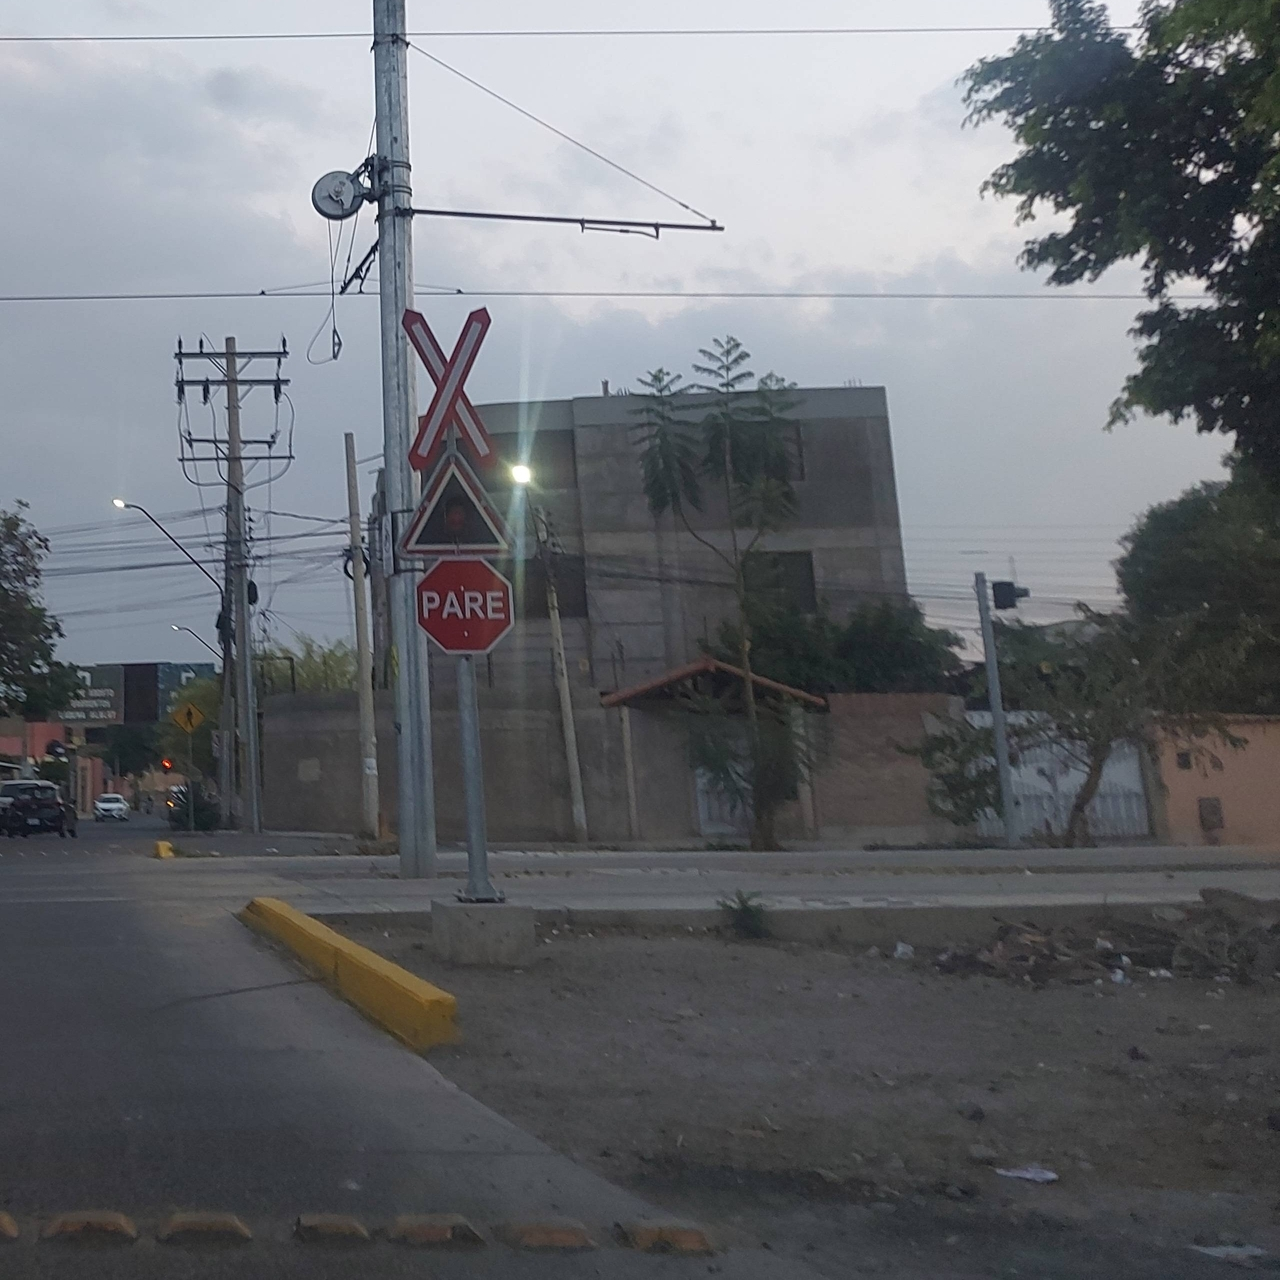pare: (416, 555, 516, 658)
